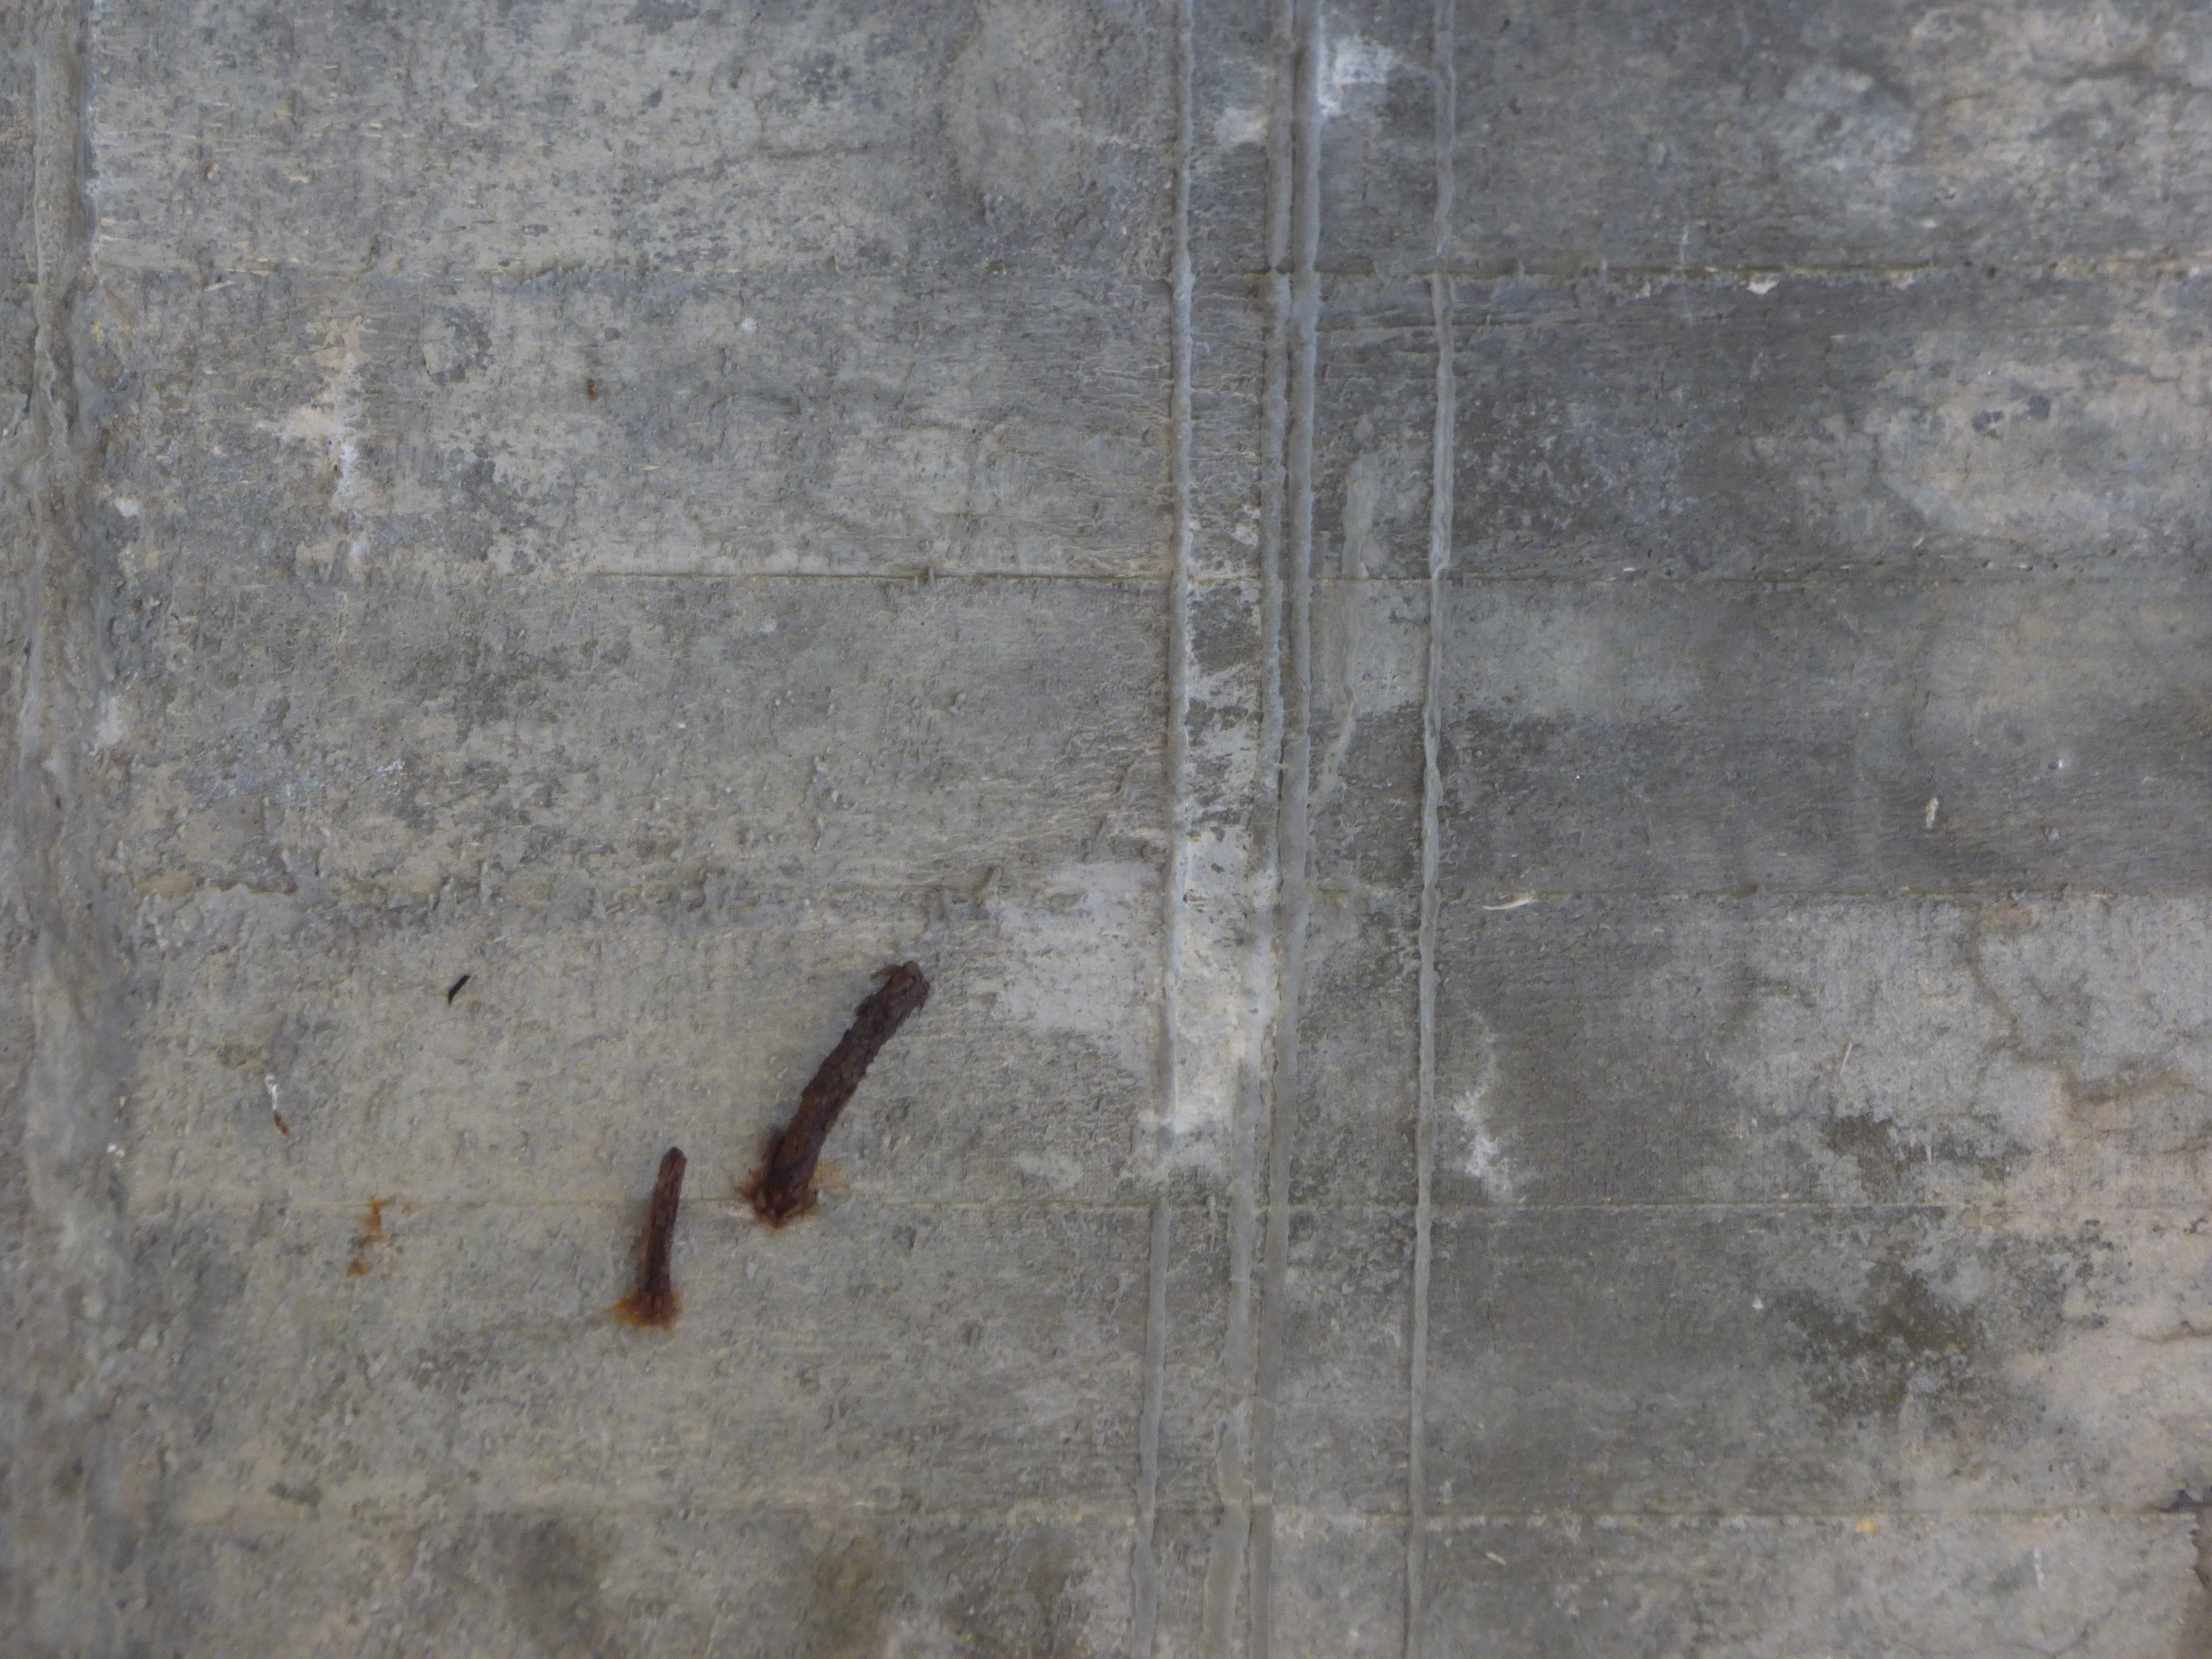Exposed reinforcement: (765, 960, 930, 1216), (641, 1147, 688, 1307)
